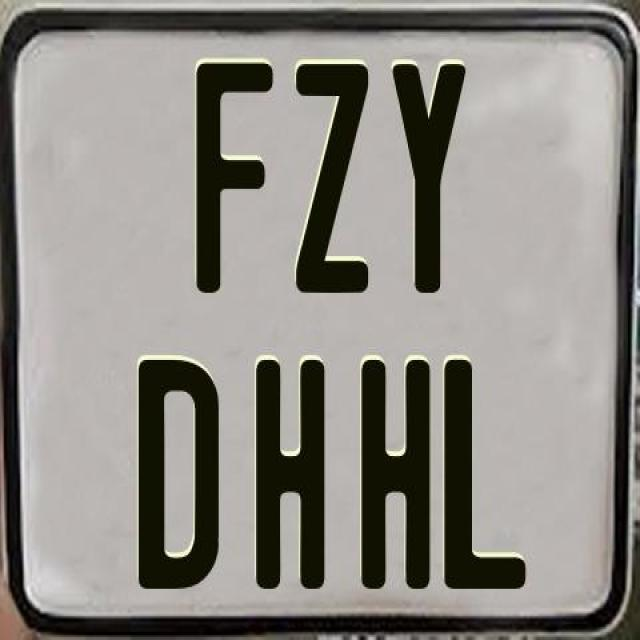D: (137, 360, 220, 595)
F: (196, 63, 274, 294)
H: (362, 360, 438, 595), (256, 360, 328, 592)
L: (441, 358, 523, 597)
Y: (392, 64, 468, 296)
Z: (296, 64, 374, 298)
